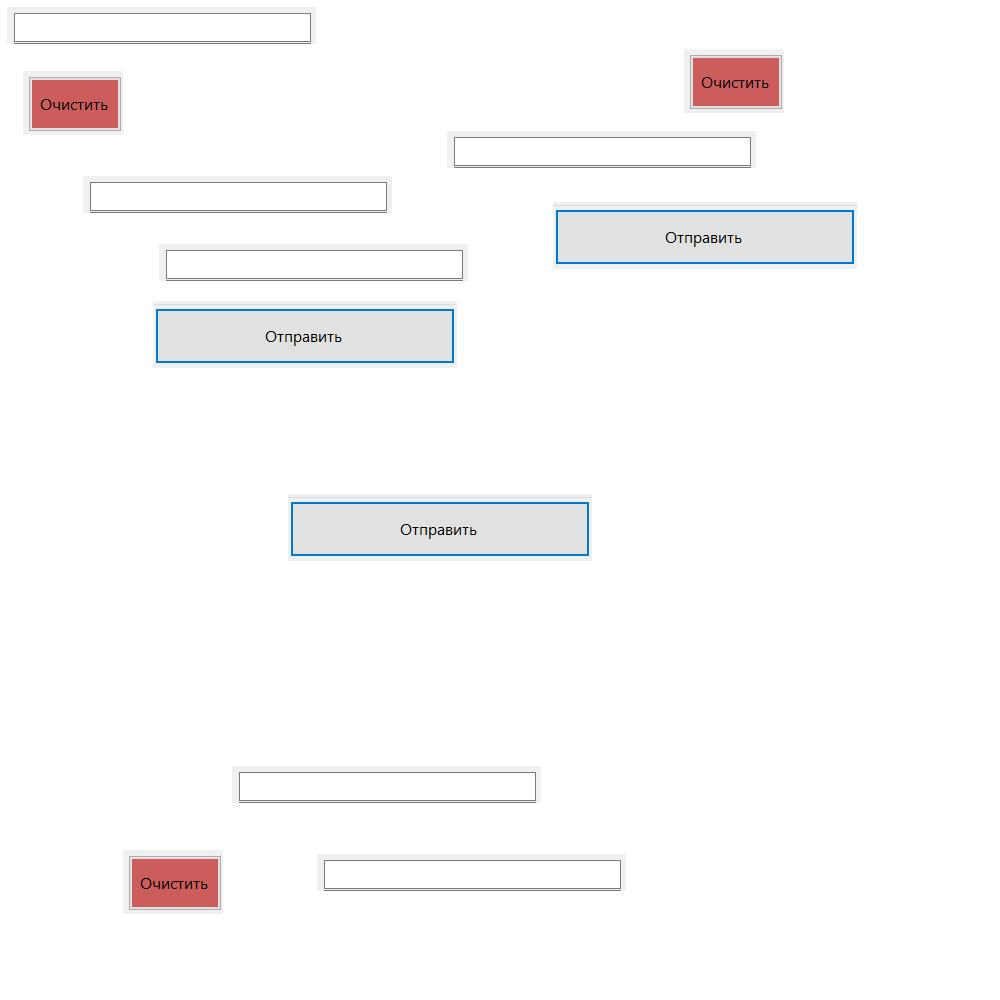Button: (153, 301, 457, 368), (288, 494, 592, 561), (553, 202, 857, 269), (123, 850, 223, 914), (23, 71, 123, 135), (684, 49, 784, 113)
EditText-: (83, 176, 392, 213), (317, 854, 626, 891), (232, 766, 541, 803), (7, 7, 316, 44), (447, 131, 756, 168), (159, 244, 468, 281)
